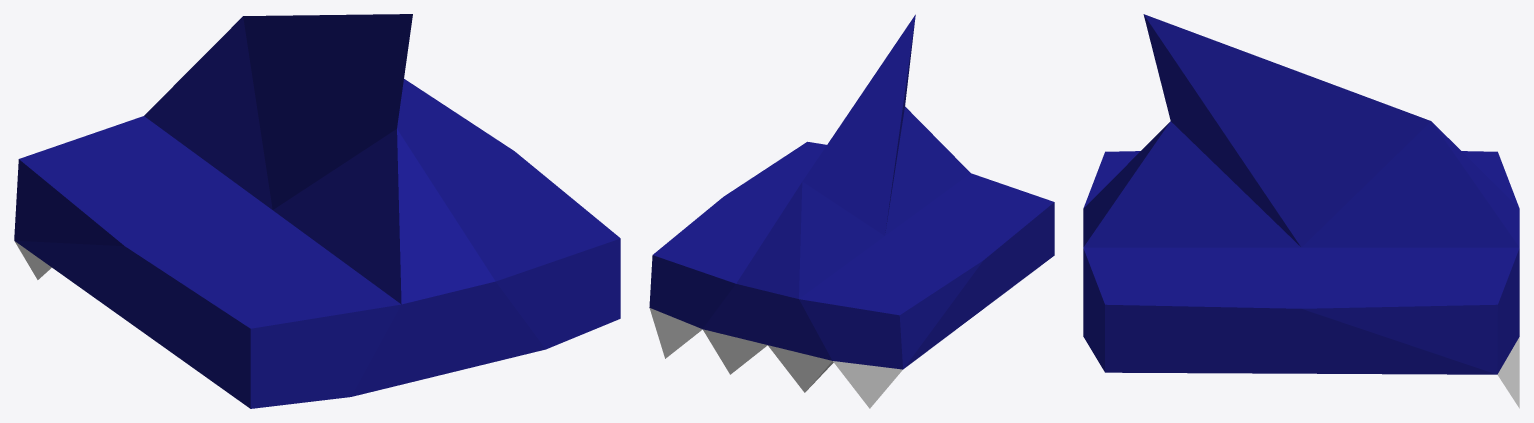
File: SharkFinHat.fbx
The picture shows the model from 3 angles, left to right: view 1: azimuth 30°, elevation 25°; view 2: azimuth 150°, elevation 25°; view 3: azimuth 270°, elevation 25°; orthographic projection. The views are drawn at different scales.
Parts seen in each view (by area): view 1: SharkFinHat; view 2: SharkFinHat; view 3: SharkFinHat.
Part boxes in pixels (x1,y1,x2,y2): SharkFinHat: [14, 14, 620, 408]; SharkFinHat: [649, 14, 1054, 408]; SharkFinHat: [1083, 14, 1519, 408].
Size of the model in its own units: 175 by 200 by 168.
